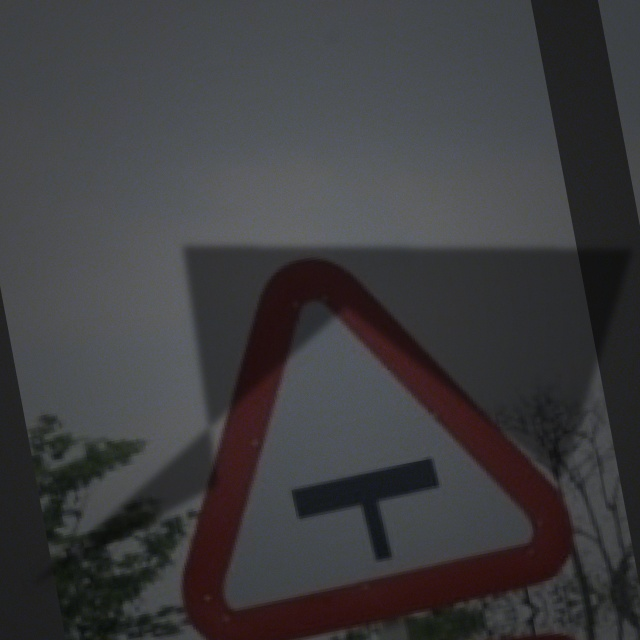T_Intersection: (134, 221, 579, 639)
